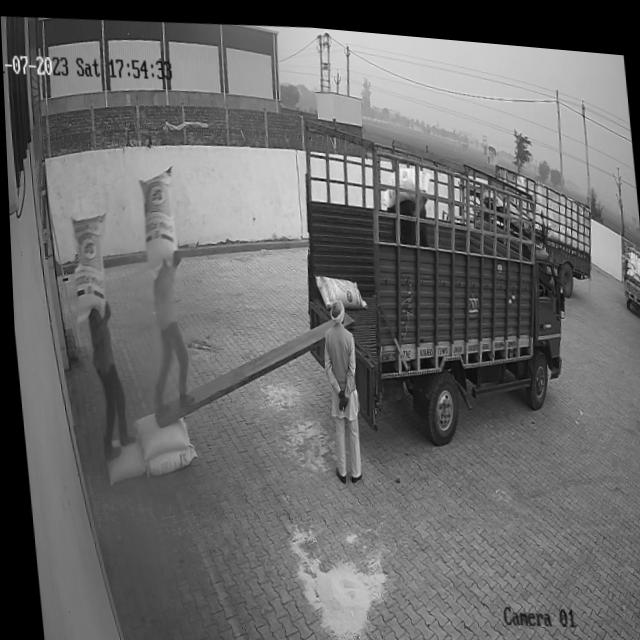sack: (64, 210, 112, 323), (136, 163, 179, 271), (127, 408, 186, 459), (312, 265, 365, 309), (98, 434, 142, 485), (141, 439, 194, 476)
